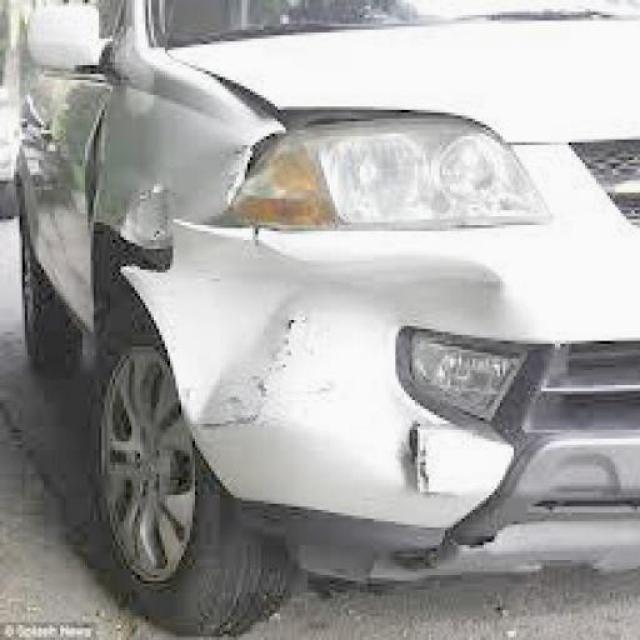car damage: (85, 56, 522, 531)
